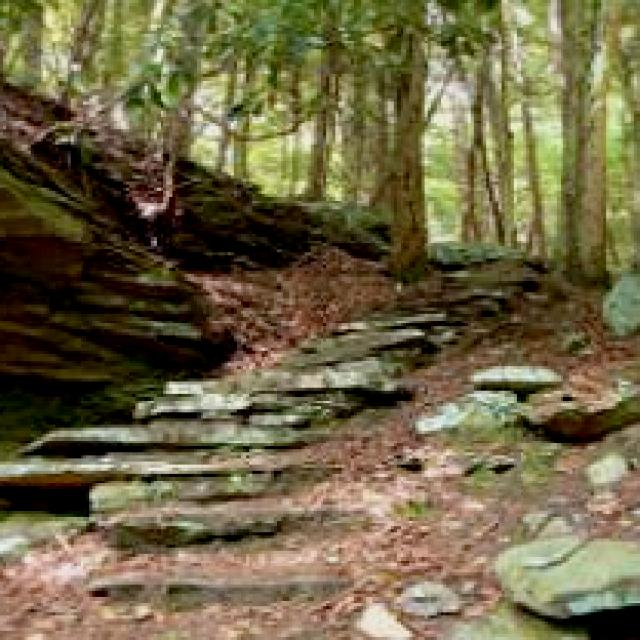upstair: (11, 309, 340, 536)
